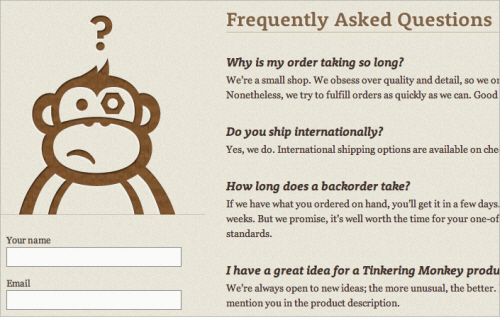_form_: (1, 1, 416, 317)
field: (5, 289, 182, 311), (6, 246, 182, 268)
field_with_label: (5, 236, 185, 270), (3, 278, 183, 312)
